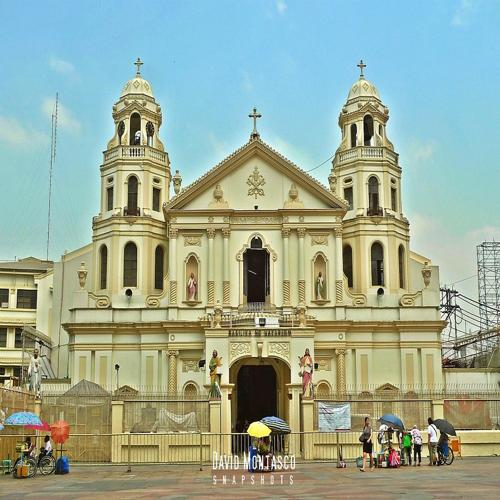Quiapo Church: (56, 41, 448, 461)
